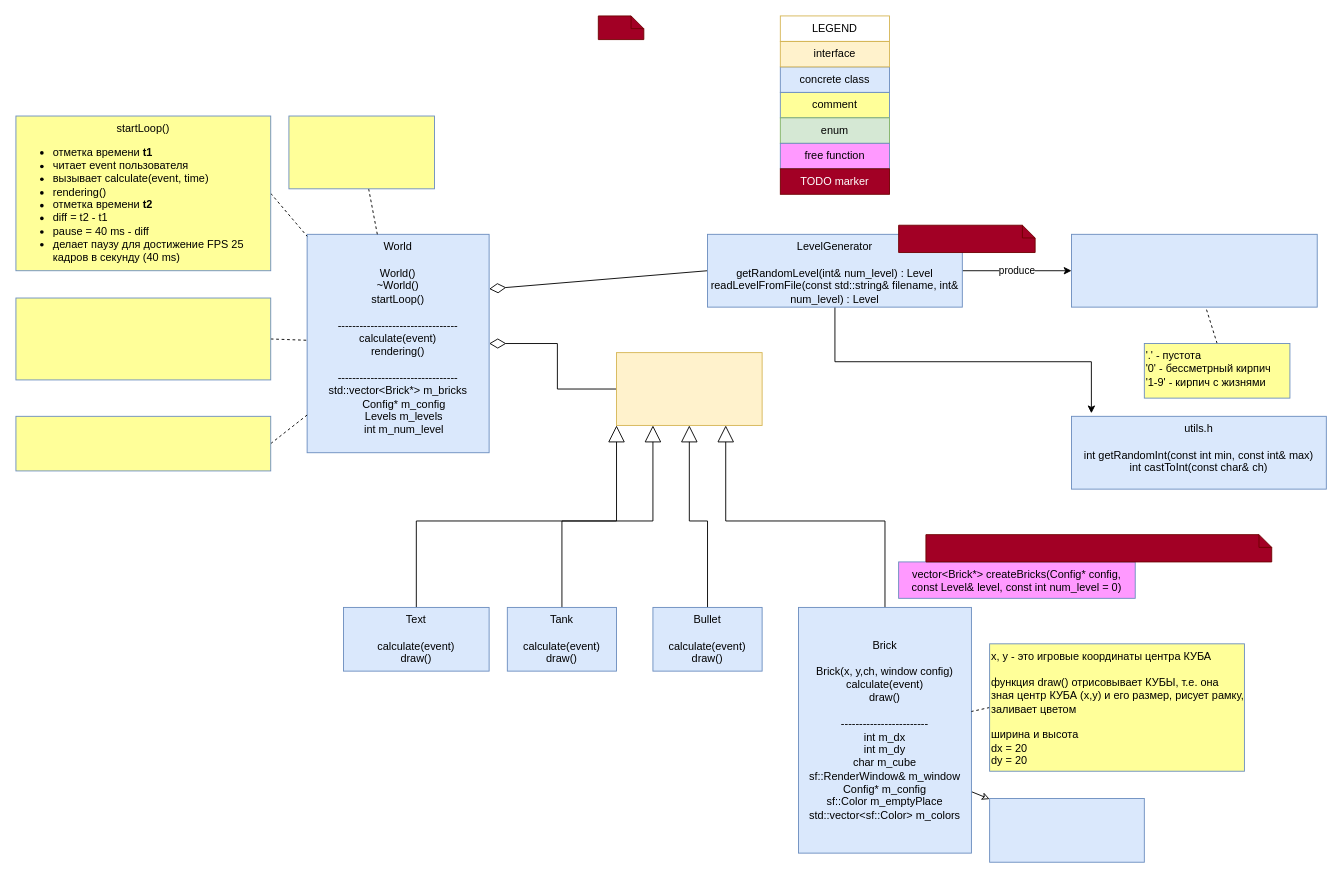
This 1342x878 diagram has some shape labels left out. The shapes that lost their labels are listed below. From the top down, each one's centre as x and y in pixels, then its label:
At (361,152): "main() создает World Запускает Loop".
At (966,238): "1 - возвращать Level".
At (1194,270): "Level // level.h // typedef using Level = std::vector<std::string>;".
At (143,338): "calculate(event, time) time - это интервал времени".
At (689,388): "IDrawbleObject calculate() = 0 draw() = 0".
At (143,443): "rendering() отрисовывает все объекты".
At (1098,548): "2 - из Level получать набор кирпичиков с нужными координатами".
At (1066,830): "Config int dx // ширина кубика int dy // высота кубика".
